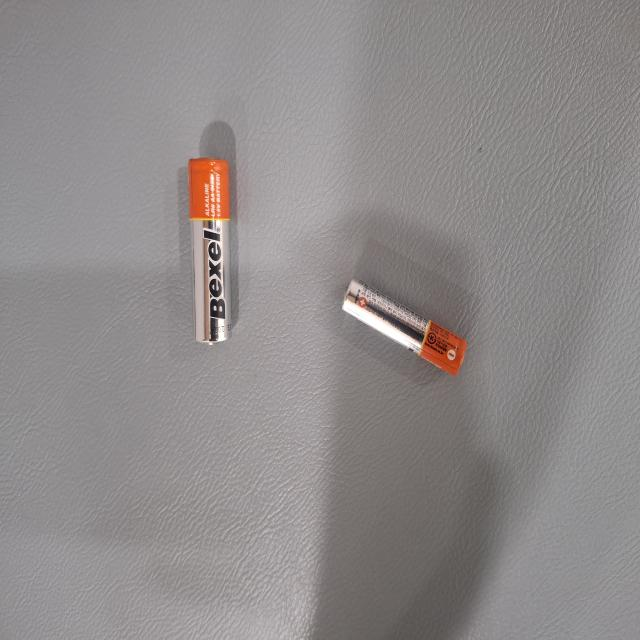AA: (407, 296, 451, 481)
AAA: (173, 266, 298, 362)
